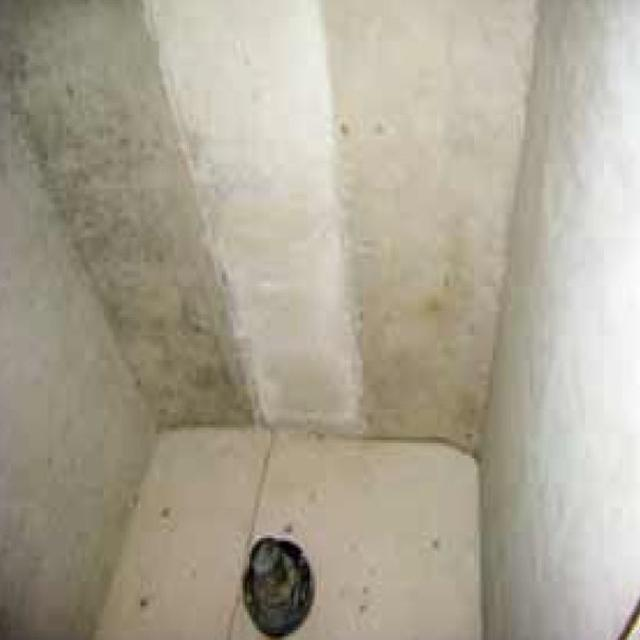freelime: (172, 71, 387, 433)
